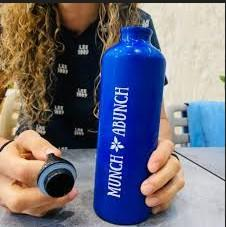bottle: (94, 21, 174, 221)
